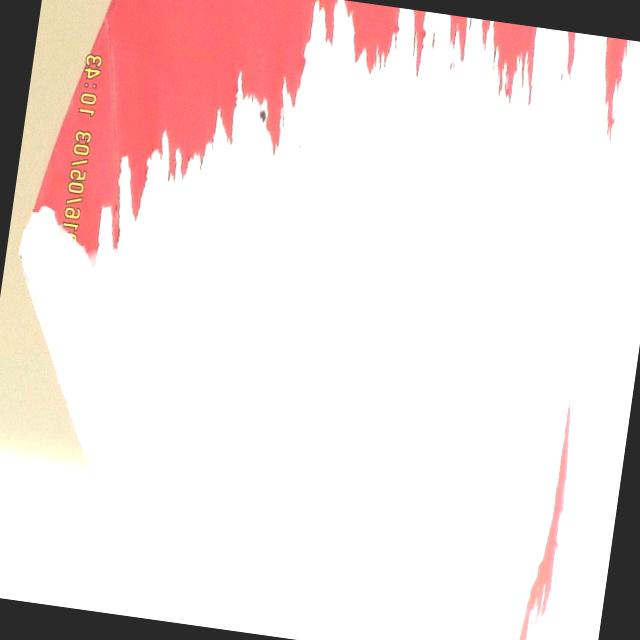surface_peeling: (22, 0, 339, 290), (334, 4, 640, 191), (512, 397, 583, 640)
